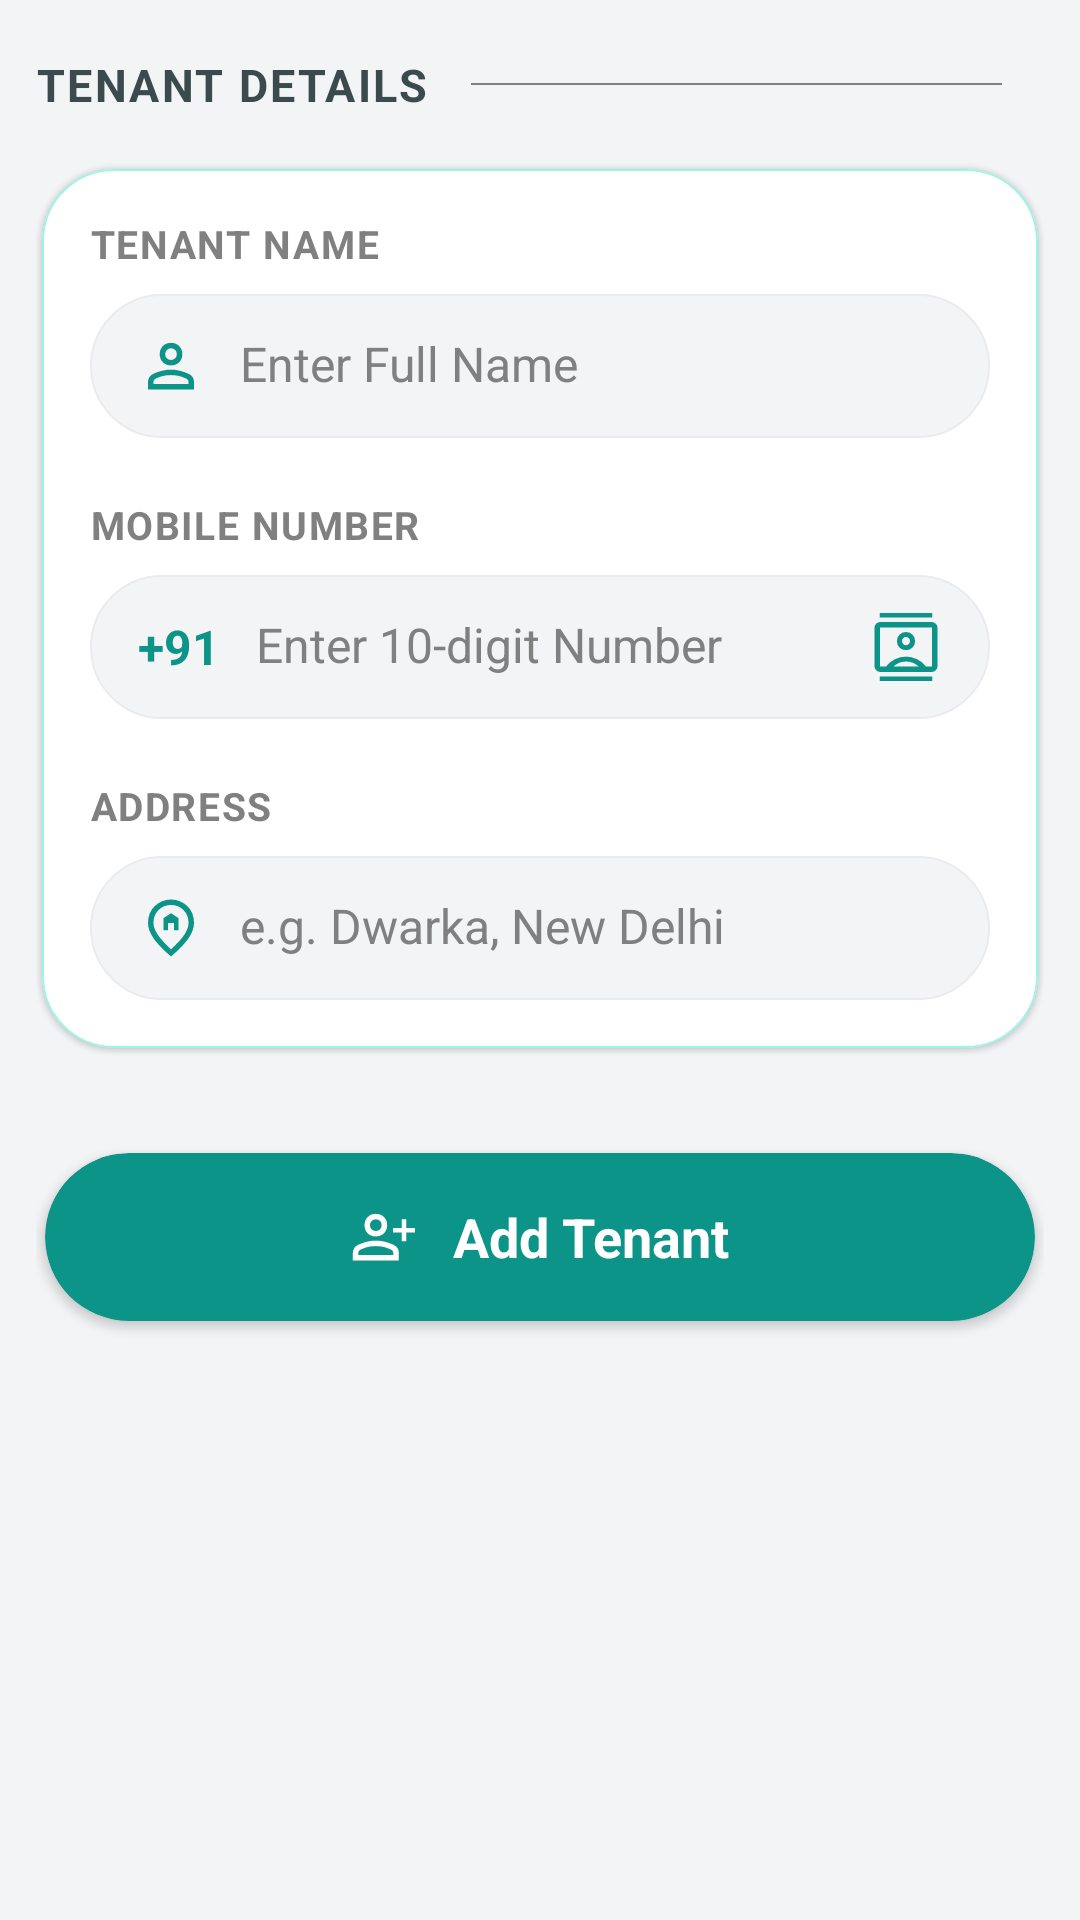

Locate icon controls on the screen. Image size 1080×1920, boxes as [x1, y1, x2, y2].
add user: [352, 1213, 415, 1261]
contact pick: [874, 613, 938, 681]
home location: [148, 899, 194, 957]
person: [148, 343, 194, 390]
